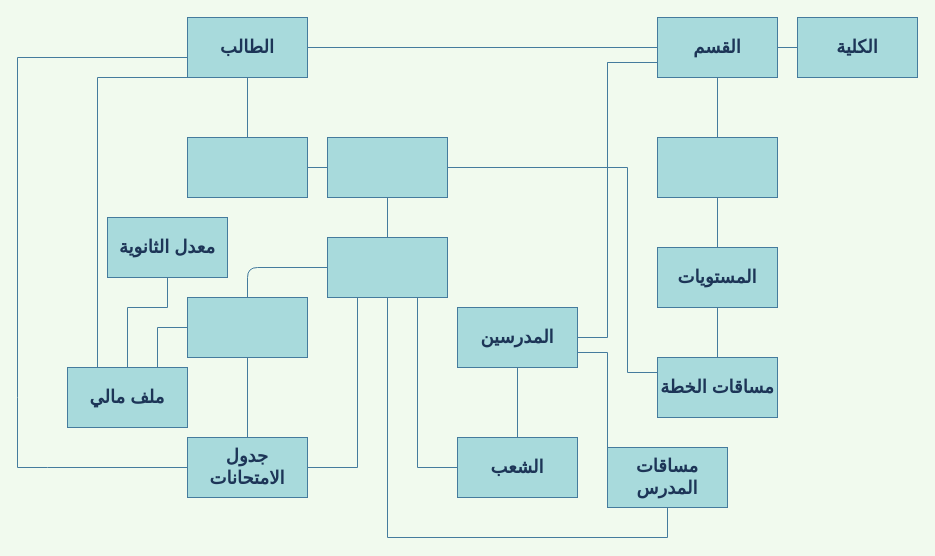
Some shapes in this 935 by 556 pixel diagram are drawn without their labels. The box of each missing label's shape, as (x1, y1, x2, y2) in pixels:
الخطة: (656, 136, 778, 198)
الفصل الدراسي: (186, 296, 308, 358)
المساقات: (326, 136, 448, 198)
المساقات المتاحة: (326, 236, 448, 298)
مساقات الطالب: (186, 136, 308, 198)
